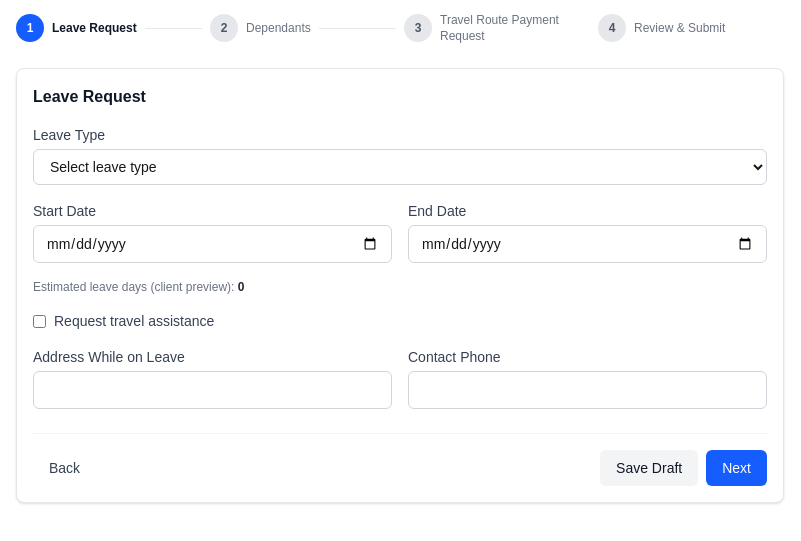
LeaveApplicationForm › shows the 'Select a leave type' message when advancing without picking one (regression)
Expected: the heading "Leave Request" is shown, [33, 88, 146, 105]
Type "2026-02-01" into the date field labelled "Start Date" at (212, 244), box [33, 225, 392, 263]
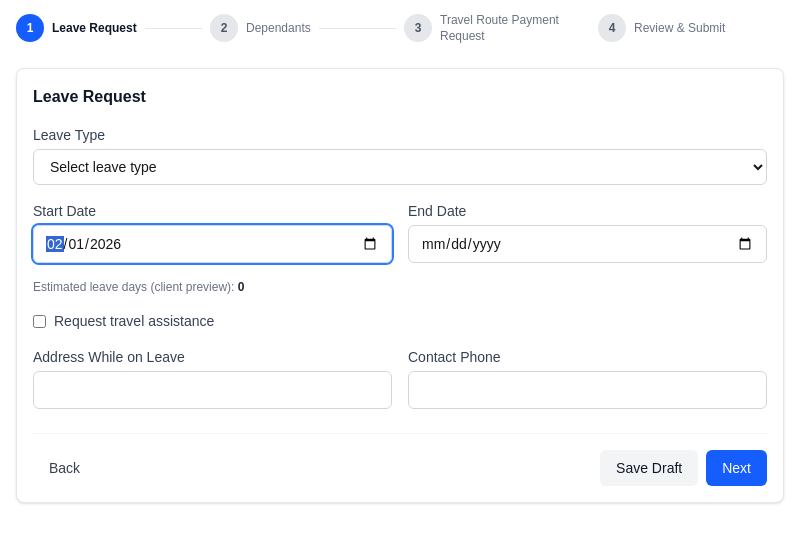
Type "2026-02-05" into the date field labelled "End Date" at (588, 244), box [408, 225, 767, 263]
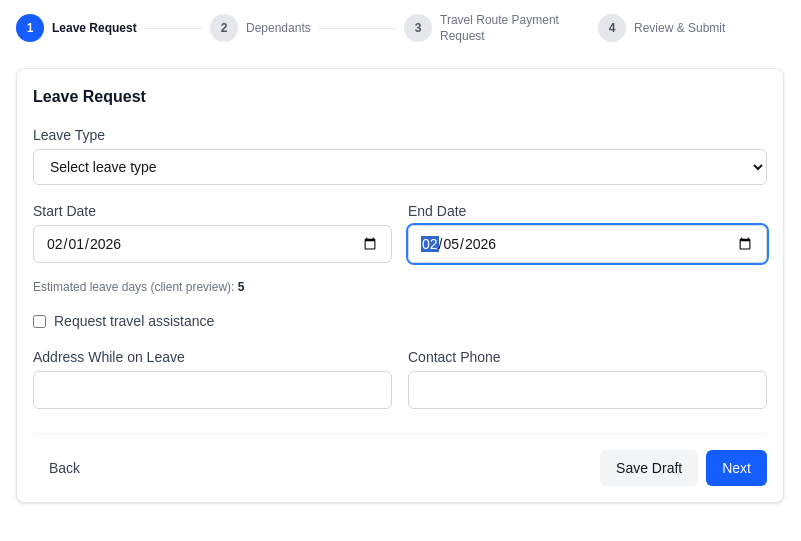
Click the button "Next" at (737, 468), box [706, 450, 767, 486]
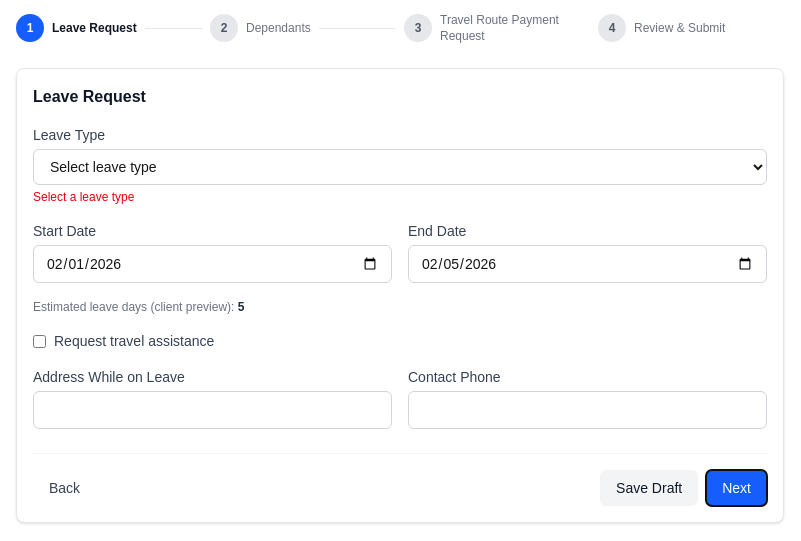
Expected: the heading "Leave Request" is shown, [33, 88, 146, 105]
Expected: the text "Select a leave type" is shown, [33, 190, 134, 204]
